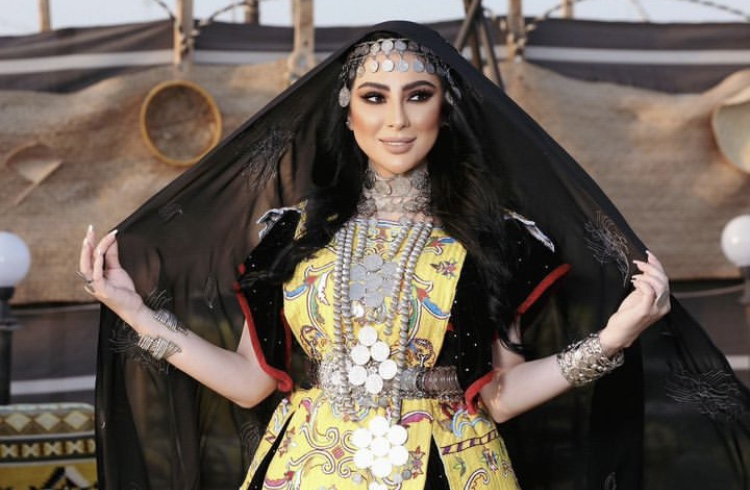Saudi_Founding_Day: (77, 17, 750, 490)
